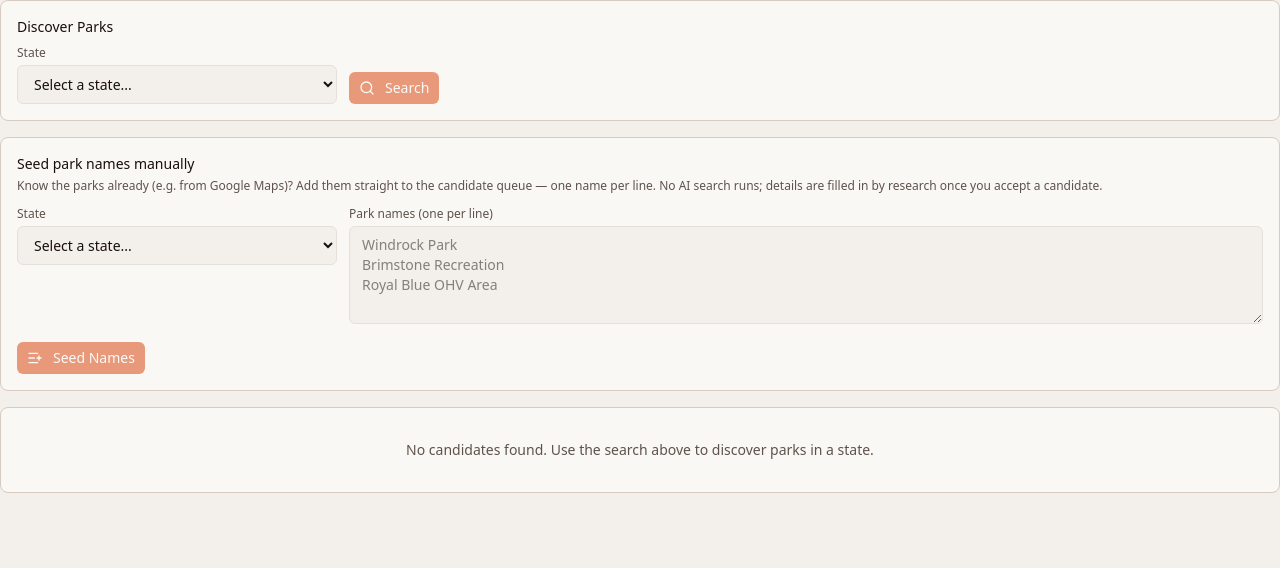
it: ParkDiscoveryTable › shows generic error when discovery fetch throws
The width and height of the screenshot is (1280, 568).
Select "Arizona (AZ)" in the 1st dropdown at coordinates (177, 84), box [17,65,337,104]
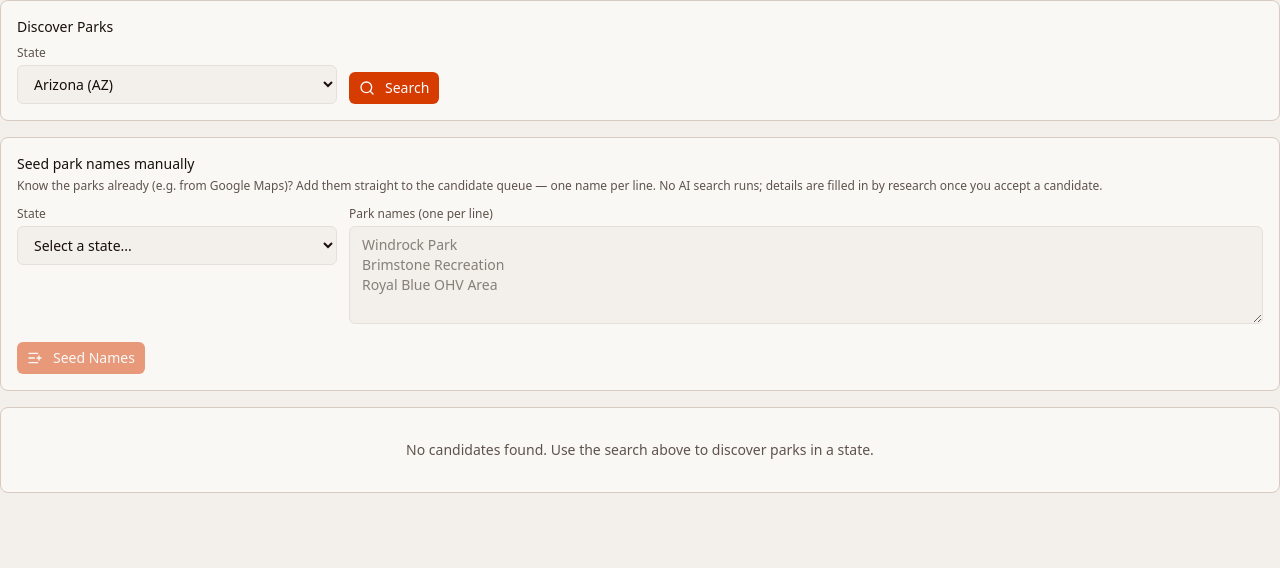
Click the button "Search" at coordinates (394, 88), box [349,72,439,104]
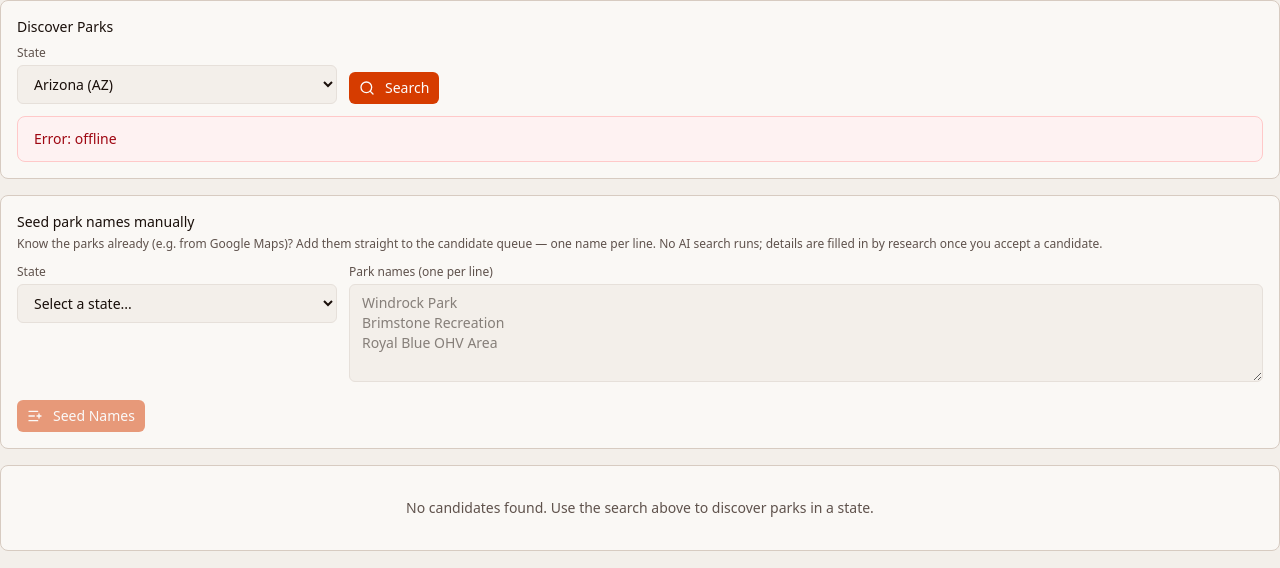
expect the text "Error: offline" is shown: met, box [17,116,1263,162]
